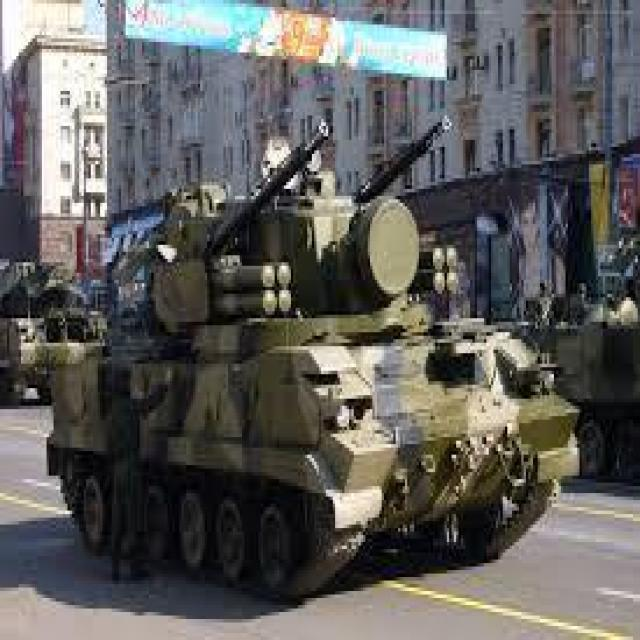MIL_MBT: (2, 54, 568, 589), (6, 182, 113, 413)
